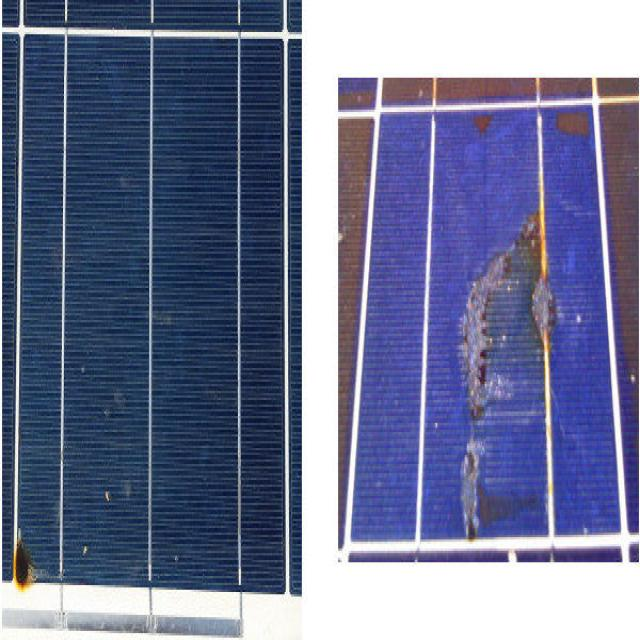Electrical-damage: (451, 190, 563, 553), (8, 503, 44, 601)
